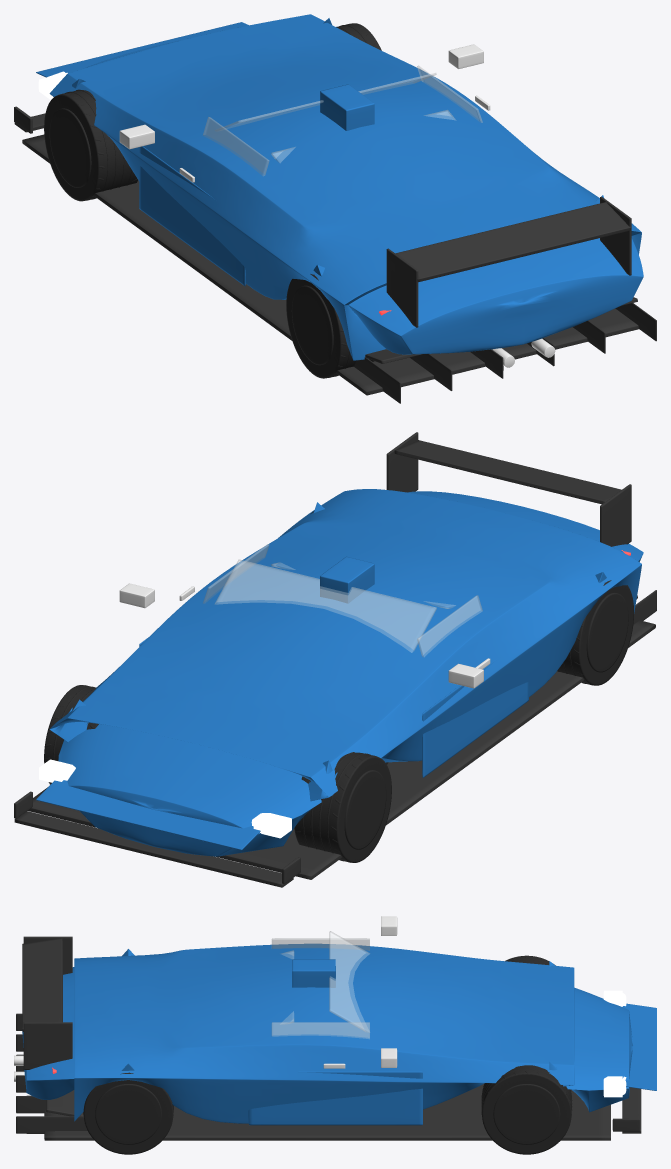
The model's file is vehicle.opt.glb.
3 views of the same model, one above another, from view 1: azimuth 30°, elevation 25°; view 2: azimuth 150°, elevation 25°; view 3: azimuth 270°, elevation 25° (orthographic). The views are drawn at different scales.
Parts seen in each view (by area): view 1: BODY_MainShell, UNDERBODY_FlatFloor, AERO_FW14B_RearWing, WHEEL_FL_Tire, WHEEL_RL_Tire, BODY_Door_FL, GLASS_Greenhouse, AERO_FW14B_AirSnorkel, JEWELRY_Hardware, BODY_Hood; view 2: BODY_MainShell, GLASS_Greenhouse, UNDERBODY_FlatFloor, AERO_FW14B_RearWing, WHEEL_FL_Tire, WHEEL_RL_Tire, BODY_Hood, AERO_FrontSplitter, BODY_Door_FL, AERO_FW14B_AirSnorkel, JEWELRY_Hardware, LIGHTING_Headlamps (+1 smaller); view 3: BODY_MainShell, UNDERBODY_FlatFloor, WHEEL_FR_Tire, AERO_FW14B_RearWing, WHEEL_RR_Tire, BODY_Door_FR, GLASS_Greenhouse, BODY_Hood, AERO_FW14B_AirSnorkel, AERO_FrontSplitter, LIGHTING_Headlamps, JEWELRY_Hardware.
Part boxes in pixels (x1,y1,x2,y2): BODY_MainShell: (49,14,643,360); UNDERBODY_FlatFloor: (22,134,656,403); AERO_FW14B_RearWing: (386,196,631,327); WHEEL_FL_Tire: (44,89,137,201); WHEEL_RL_Tire: (286,274,374,378); BODY_Door_FL: (139,146,245,286); GLASS_Greenhouse: (203,65,482,175); AERO_FW14B_AirSnorkel: (320,84,374,130); JEWELRY_Hardware: (119,44,490,182); BODY_Hood: (36,22,248,77); BODY_MainShell: (49,489,643,856); GLASS_Greenhouse: (203,544,482,656); UNDERBODY_FlatFloor: (27,590,656,879); AERO_FW14B_RearWing: (386,432,631,546); WHEEL_FL_Tire: (294,752,391,862); WHEEL_RL_Tire: (557,580,633,685); BODY_Hood: (36,780,260,850); AERO_FrontSplitter: (14,791,300,887); BODY_Door_FL: (422,657,528,777); AERO_FW14B_AirSnorkel: (320,556,374,603); JEWELRY_Hardware: (119,583,490,688); LIGHTING_Headlamps: (39,759,291,838); BODY_MainShell: (22,943,633,1123); UNDERBODY_FlatFloor: (16,1013,610,1140); WHEEL_FR_Tire: (481,1065,572,1154); AERO_FW14B_RearWing: (22,936,72,1069); WHEEL_RR_Tire: (83,1072,173,1154); BODY_Door_FR: (248,1071,422,1125); GLASS_Greenhouse: (271,931,369,1038); BODY_Hood: (622,1003,656,1090); AERO_FW14B_AirSnorkel: (292,959,335,987); AERO_FrontSplitter: (612,1087,641,1133); LIGHTING_Headlamps: (603,990,626,1097); JEWELRY_Hardware: (323,916,397,1068).
Size of what is drawn, in the model's own units: 2.47 by 1.06 by 4.71.
